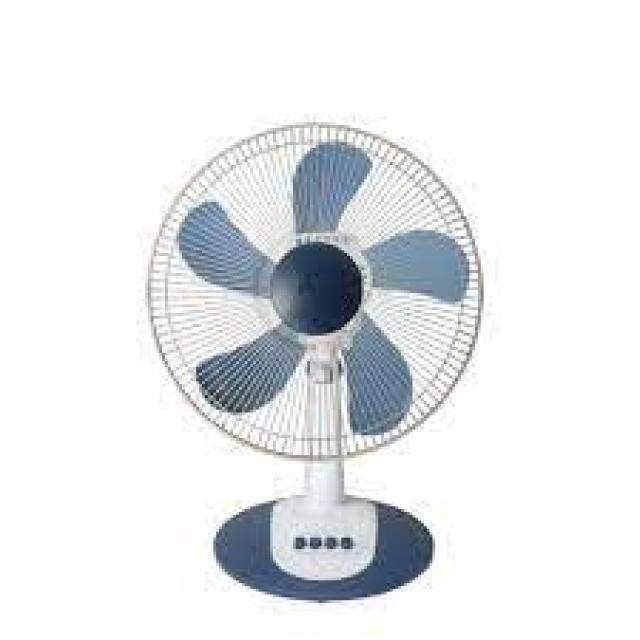fan: (116, 119, 534, 613)
